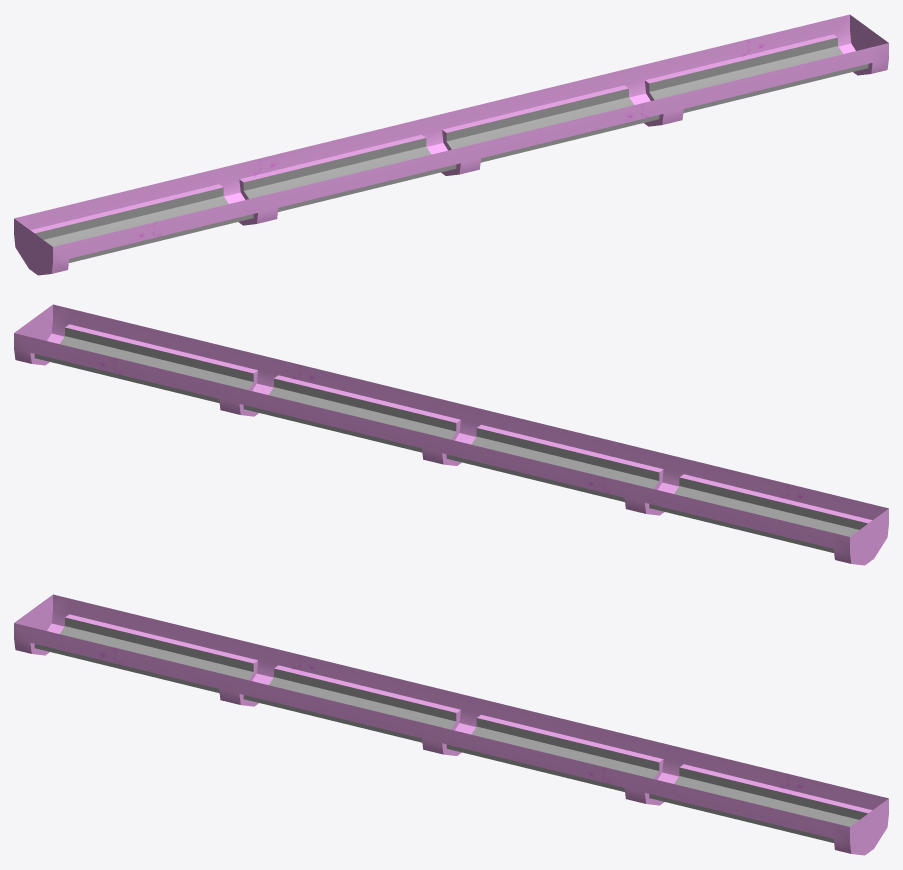
The model's file is Light_01_SM_Low.fbx.
3 renders of one model, top to bottom at view 1: azimuth 30°, elevation 25°; view 2: azimuth 150°, elevation 25°; view 3: azimuth 330°, elevation 25°, orthographic.
Visible parts, largest first — view 1: BarLight; view 2: BarLight; view 3: BarLight.
Boxes of the visible parts, x1,y1,x2,y2 form: BarLight: [14, 14, 888, 275]; BarLight: [14, 304, 888, 565]; BarLight: [14, 594, 888, 855].
Size of the model in its own units: 177 by 8.01 by 14.32.
2 materials, 1 textured.
